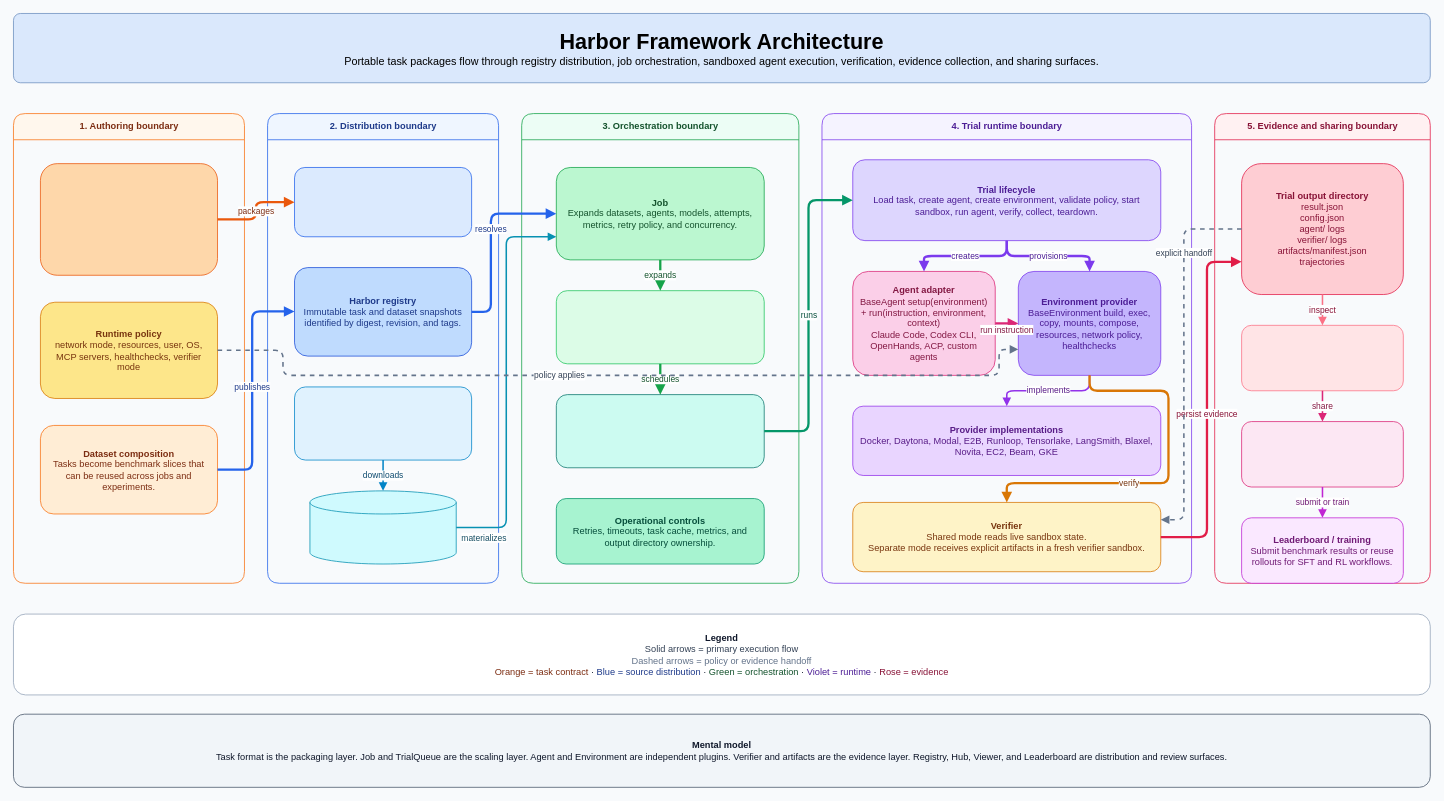
Image size: 1444x801. Some labels were removed from this diagram. Each missing label, with the centre of its shape:
"Git repository Remote task sources for reproducible benchmark reuse." goes at point (383, 423).
"Hub / job sharing Upload reproducible results for collaboration and review." goes at point (1322, 454).
"Local directory Run directly during development." goes at point (383, 202).
"Task cache Downloaded sources materialize before trial construction." goes at point (382, 527).
"Task package instruction.md task.toml environment/ tests/ solution/ optional" goes at point (129, 219).
"TrialConfig fan-out One config per task x agent x model x attempt." goes at point (660, 327).
"TrialQueue Runs trials concurrently with per-agent and job-level limits." goes at point (660, 431).
"Viewer Inspect jobs, trial logs, artifacts, and scores." goes at point (1322, 358).
